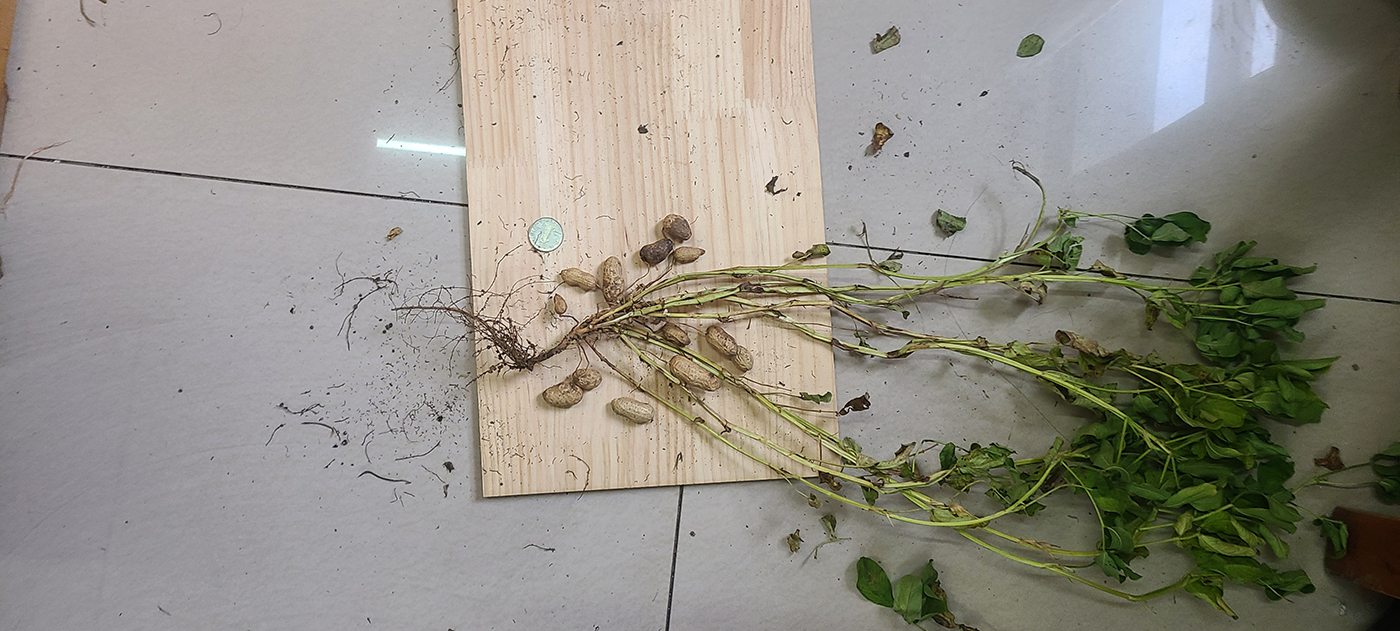h: (705, 326, 753, 372), (670, 356, 720, 391), (612, 397, 655, 425), (544, 383, 584, 408), (603, 257, 625, 302), (560, 268, 597, 293), (573, 368, 602, 391), (674, 246, 705, 263), (554, 294, 568, 314)
l: (639, 239, 673, 267), (662, 213, 692, 241), (662, 322, 691, 348)
